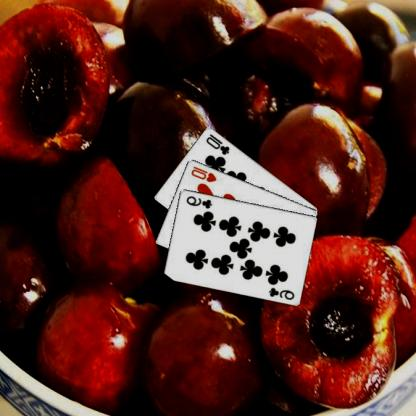10C: (205, 131, 233, 156)
10H: (190, 163, 220, 183)
9C: (185, 193, 215, 210), (268, 285, 297, 301)
